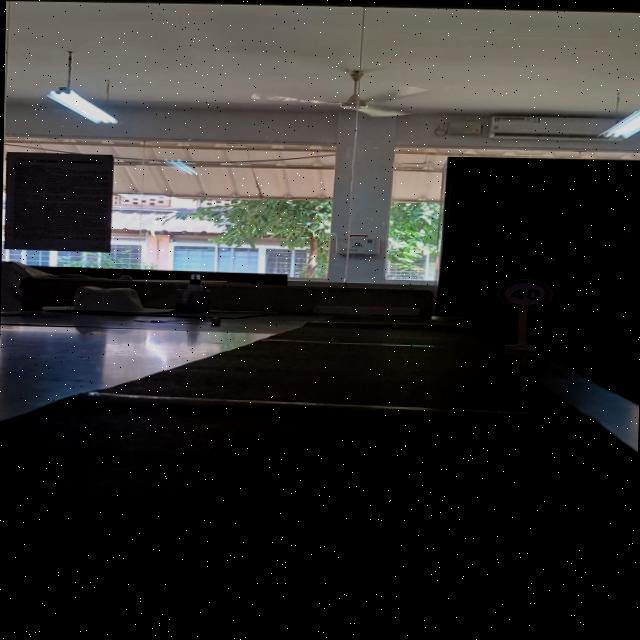Speed40: (496, 276, 556, 312)
